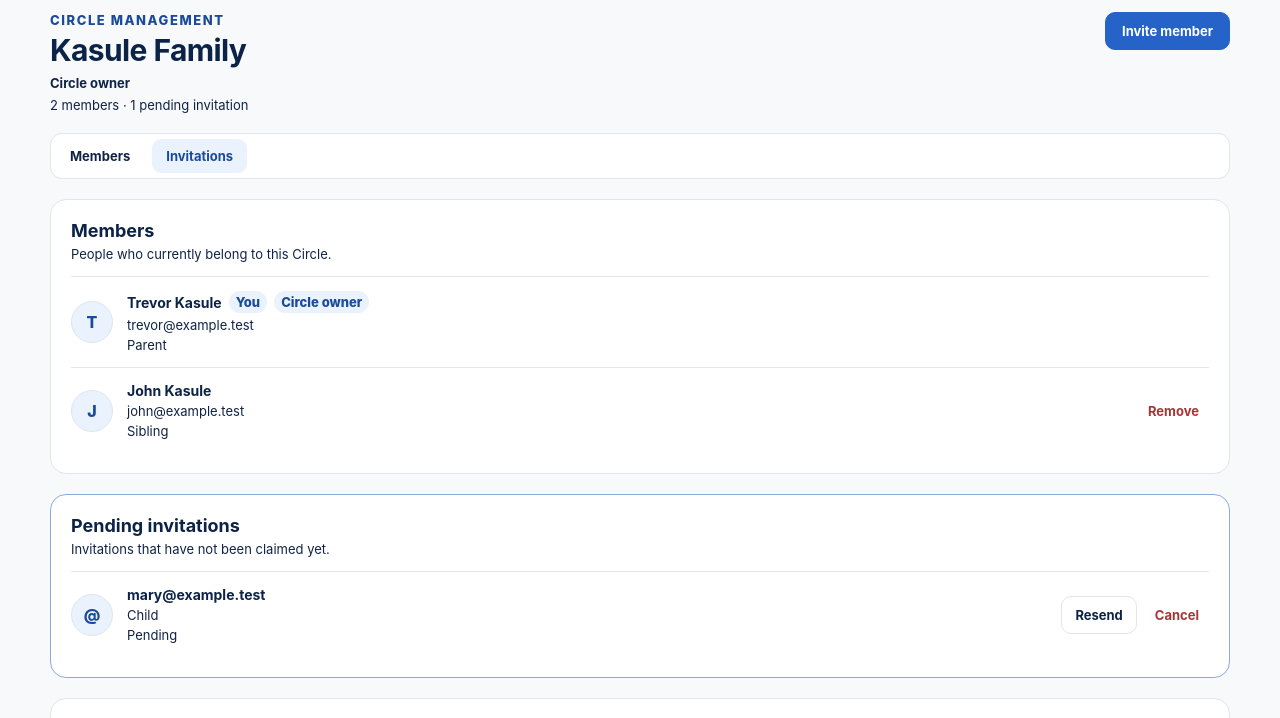
Scenario: CircleManagement › renders pending invitations and lets the owner resend authoritatively
expect the heading "mary@example.test" is shown: met, box [127,586,266,603]
expect the text "Child" is shown: met, box [127,607,158,623]
Click the button with aria-label "Resend invitation to mary@example.test": click(1099, 614) [1061,596,1137,634]
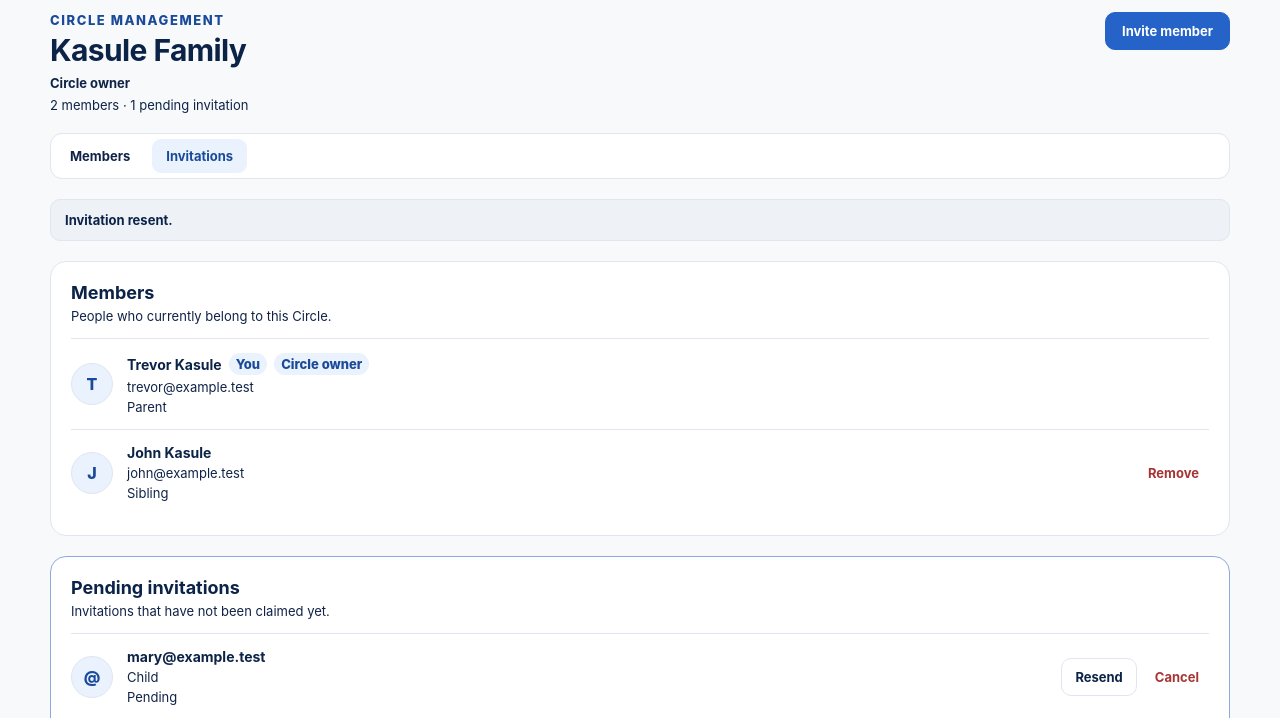
expect the text "Invitation resent." is shown: met, box [50,199,1230,241]
